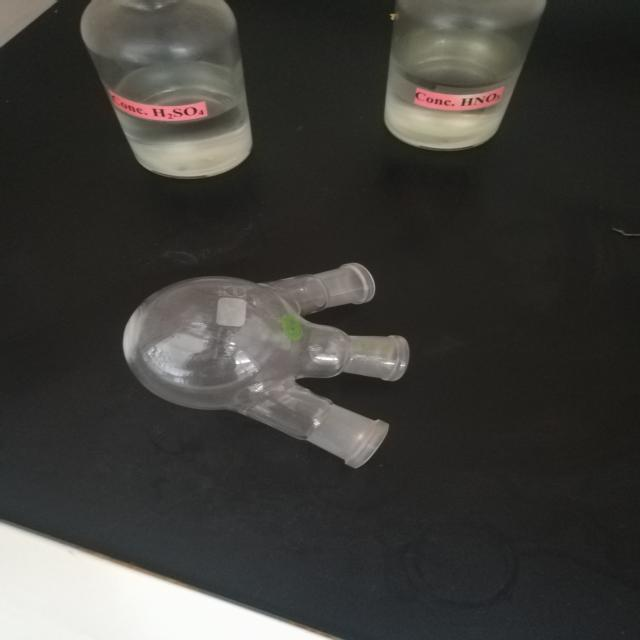Reagent_Bottle: (52, 0, 301, 190), (364, 0, 579, 177)
Round_Bottom_Flask_Borosilicate_Glass_3_Neck: (106, 257, 450, 494)
